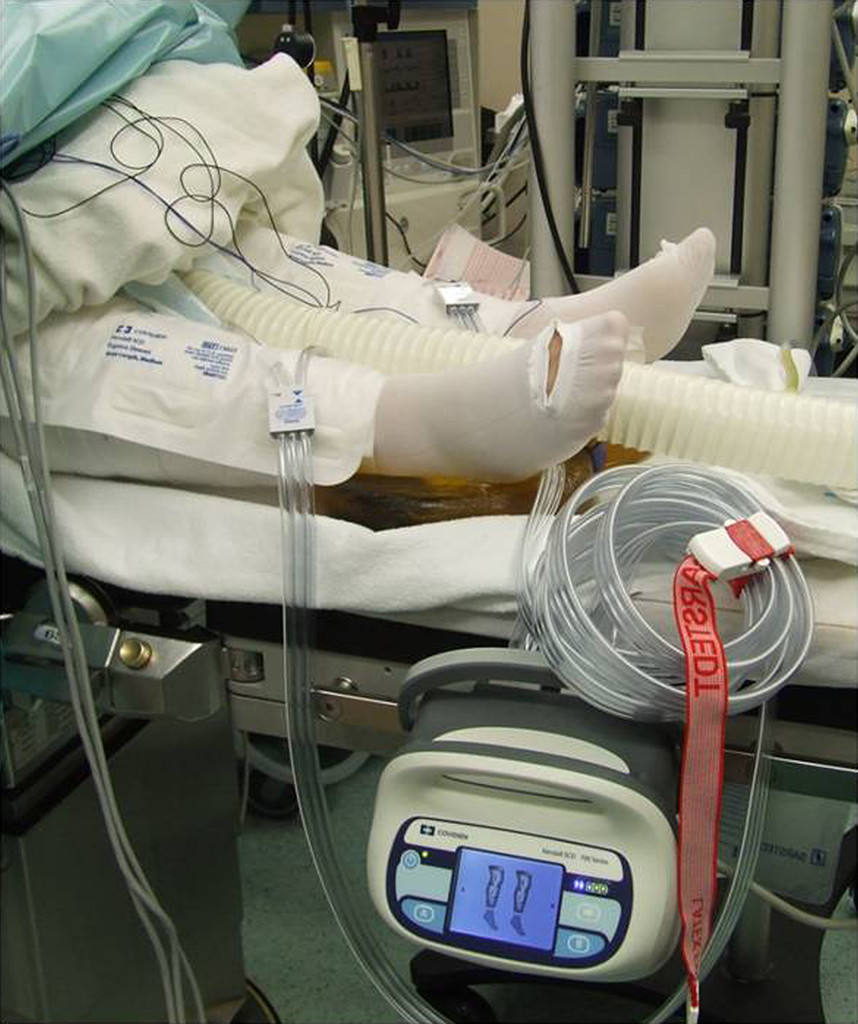bedside_monitor: (351, 34, 457, 147)
sequential_compression: (56, 210, 819, 989)
